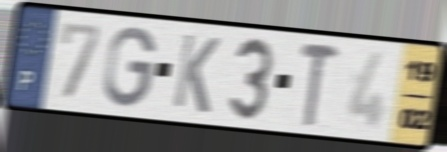3: (226, 34, 276, 123)
4: (343, 49, 390, 133)
7: (57, 19, 103, 104)
G: (101, 24, 159, 110)
K: (170, 31, 223, 117)
T: (297, 39, 342, 130)
